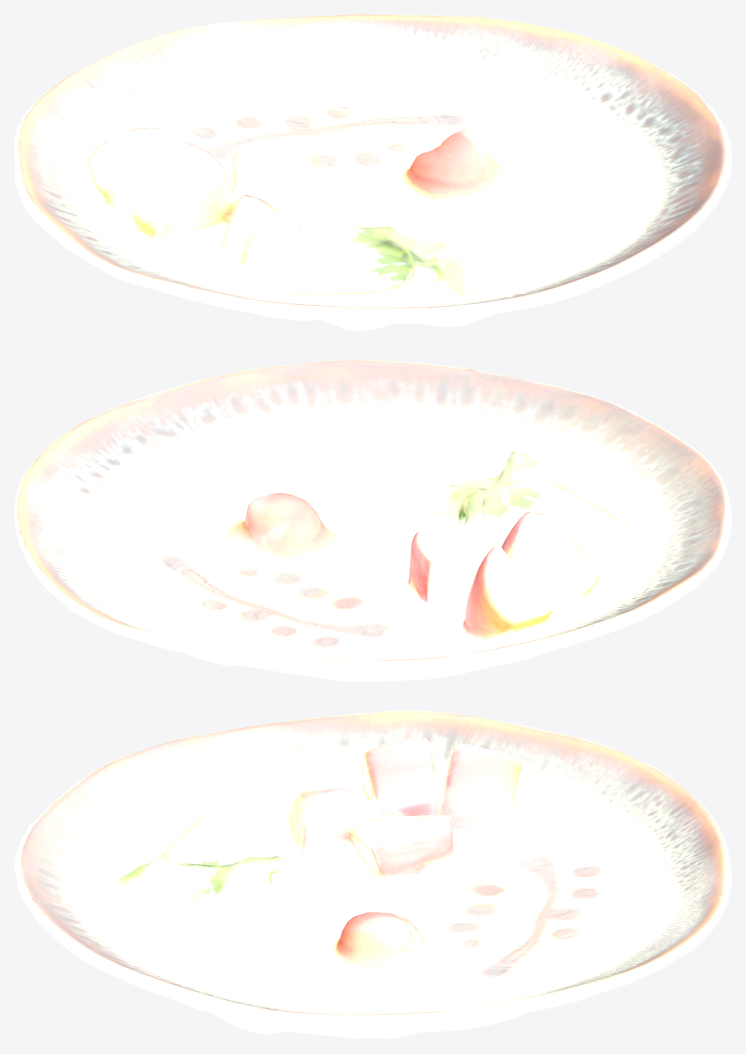
Rendered from 270326_Unlit.glb.
3 views of the same model, one above another, from view 1: azimuth 30°, elevation 25°; view 2: azimuth 150°, elevation 25°; view 3: azimuth 270°, elevation 25° (orthographic).
Parts seen in each view (by area): view 1: Retopo; view 2: Retopo; view 3: Retopo.
Boxes of the visible parts, x1=… form: Retopo: x1=14, y1=14, x2=731, y2=331; Retopo: x1=14, y1=360, x2=731, y2=681; Retopo: x1=14, y1=710, x2=731, y2=1039.
Bounding box in the file's own units: 0.2685 × 0.0429 × 0.2663.
